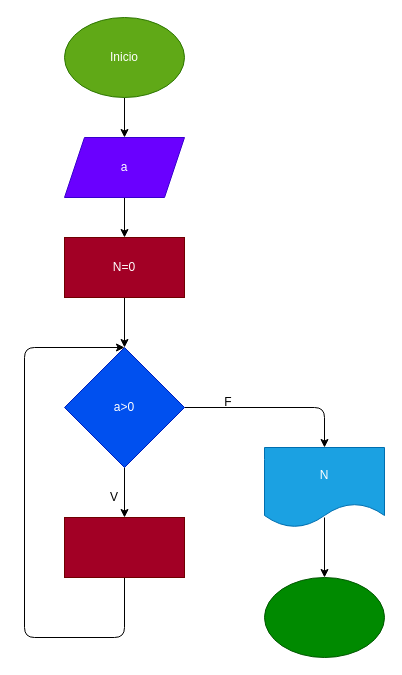
Image size: 402x675. Some labels were removed from this diagram. The shapes that lost their labels are listed below. From the top down, each one's centre as x and y in pixels, then its label:
At point (124, 547): "a=a/10 N=N+1".
At point (324, 617): "Fin".
